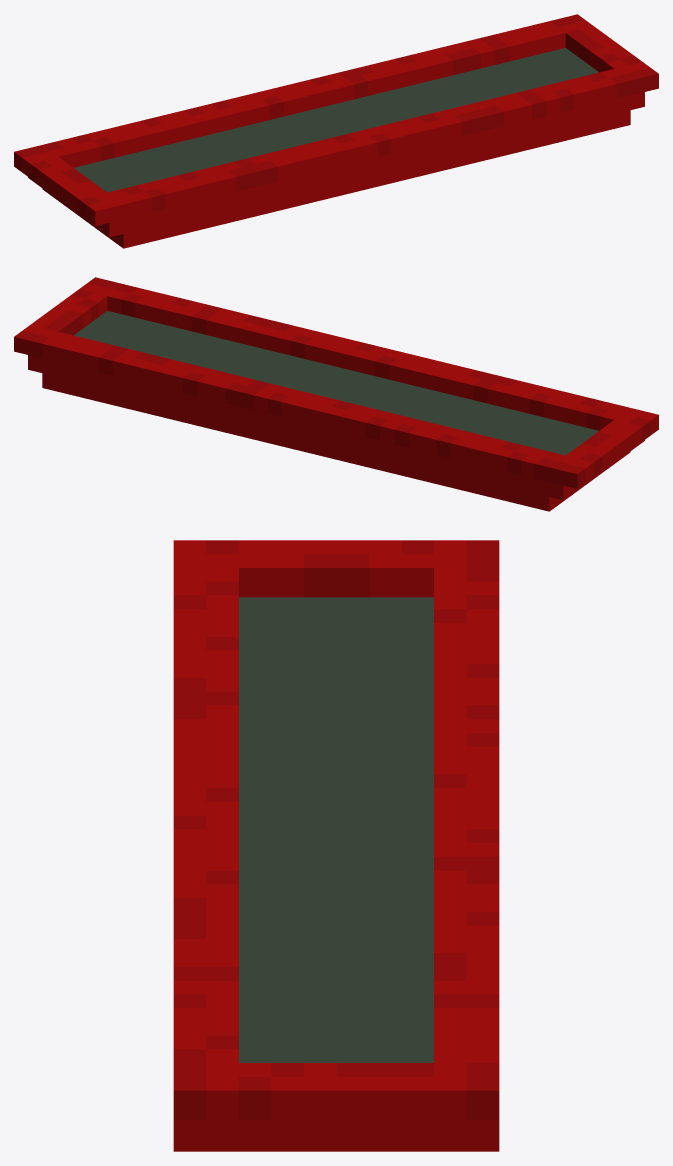
The model's file is InputField.obj.
The picture shows the model from 3 angles, top to bottom: view 1: azimuth 30°, elevation 25°; view 2: azimuth 150°, elevation 25°; view 3: azimuth 270°, elevation 25°; orthographic projection. The views are drawn at different scales.
Size of the model in its own units: 4 by 0.3 by 1.
1 material, 1 textured.
